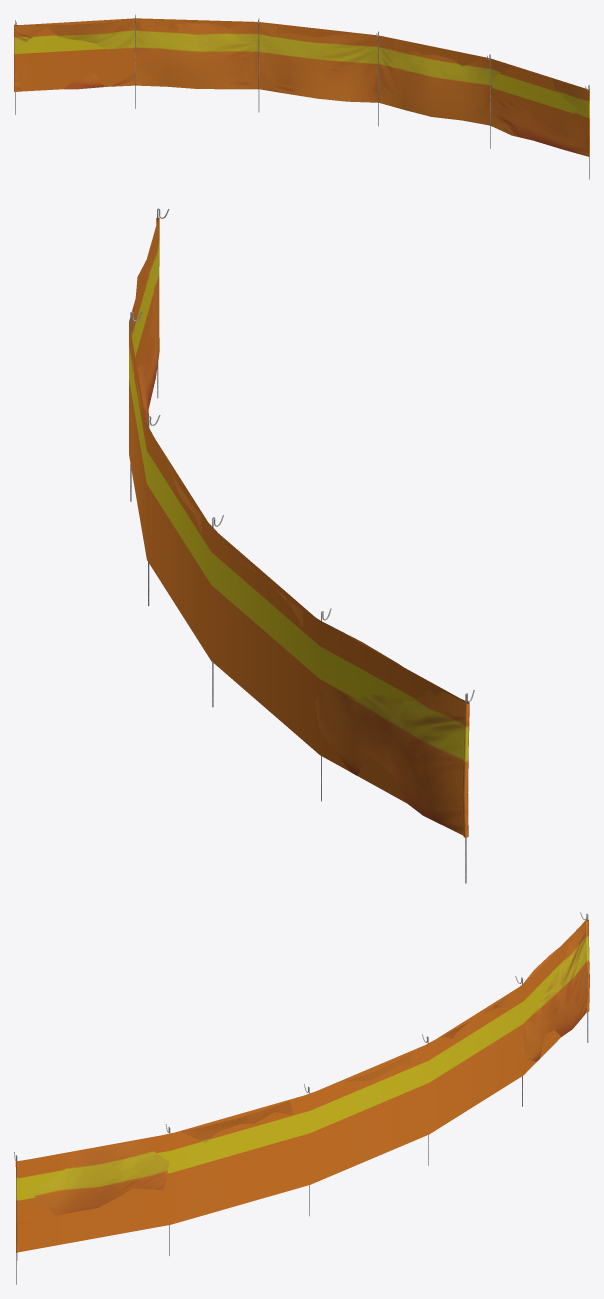
Rendered from ut_race_mesh_barricade_curve_b.DAE.
3 views of the same model, one above another, from view 1: azimuth 30°, elevation 25°; view 2: azimuth 150°, elevation 25°; view 3: azimuth 270°, elevation 25° (orthographic). The views are drawn at different scales.
Visible parts, largest first — view 1: mesh_barricade_c1000, mesh_barricade_c100, mesh_barricade_c80; view 2: mesh_barricade_c80, mesh_barricade_c1000, mesh_barricade_c100; view 3: mesh_barricade_c80, mesh_barricade_c1000, mesh_barricade_c100.
Boxes of the visible parts, x1,y1,x2,y2 form: mesh_barricade_c1000: [14, 14, 589, 179]; mesh_barricade_c100: [14, 18, 588, 156]; mesh_barricade_c80: [15, 18, 587, 126]; mesh_barricade_c80: [129, 219, 468, 803]; mesh_barricade_c1000: [130, 208, 474, 883]; mesh_barricade_c100: [130, 218, 468, 815]; mesh_barricade_c80: [17, 920, 587, 1252]; mesh_barricade_c1000: [14, 912, 589, 1284]; mesh_barricade_c100: [18, 920, 585, 1215].
Bounding box in the file's own units: 6.86 × 6.87 × 1.7.
